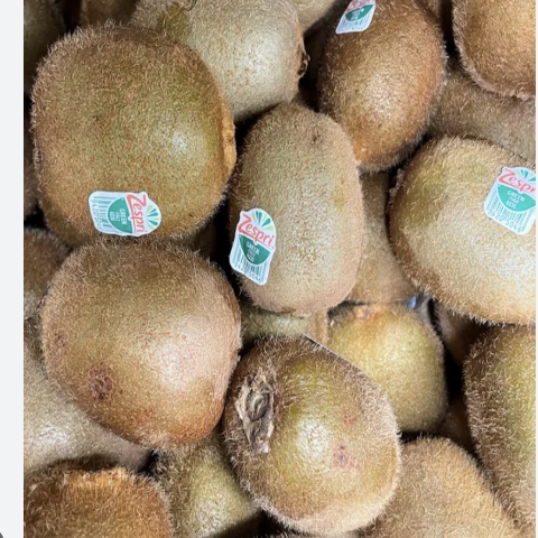kiwi: (27, 23, 253, 263), (36, 217, 262, 452), (186, 343, 431, 536), (222, 98, 386, 340), (389, 111, 537, 332)
